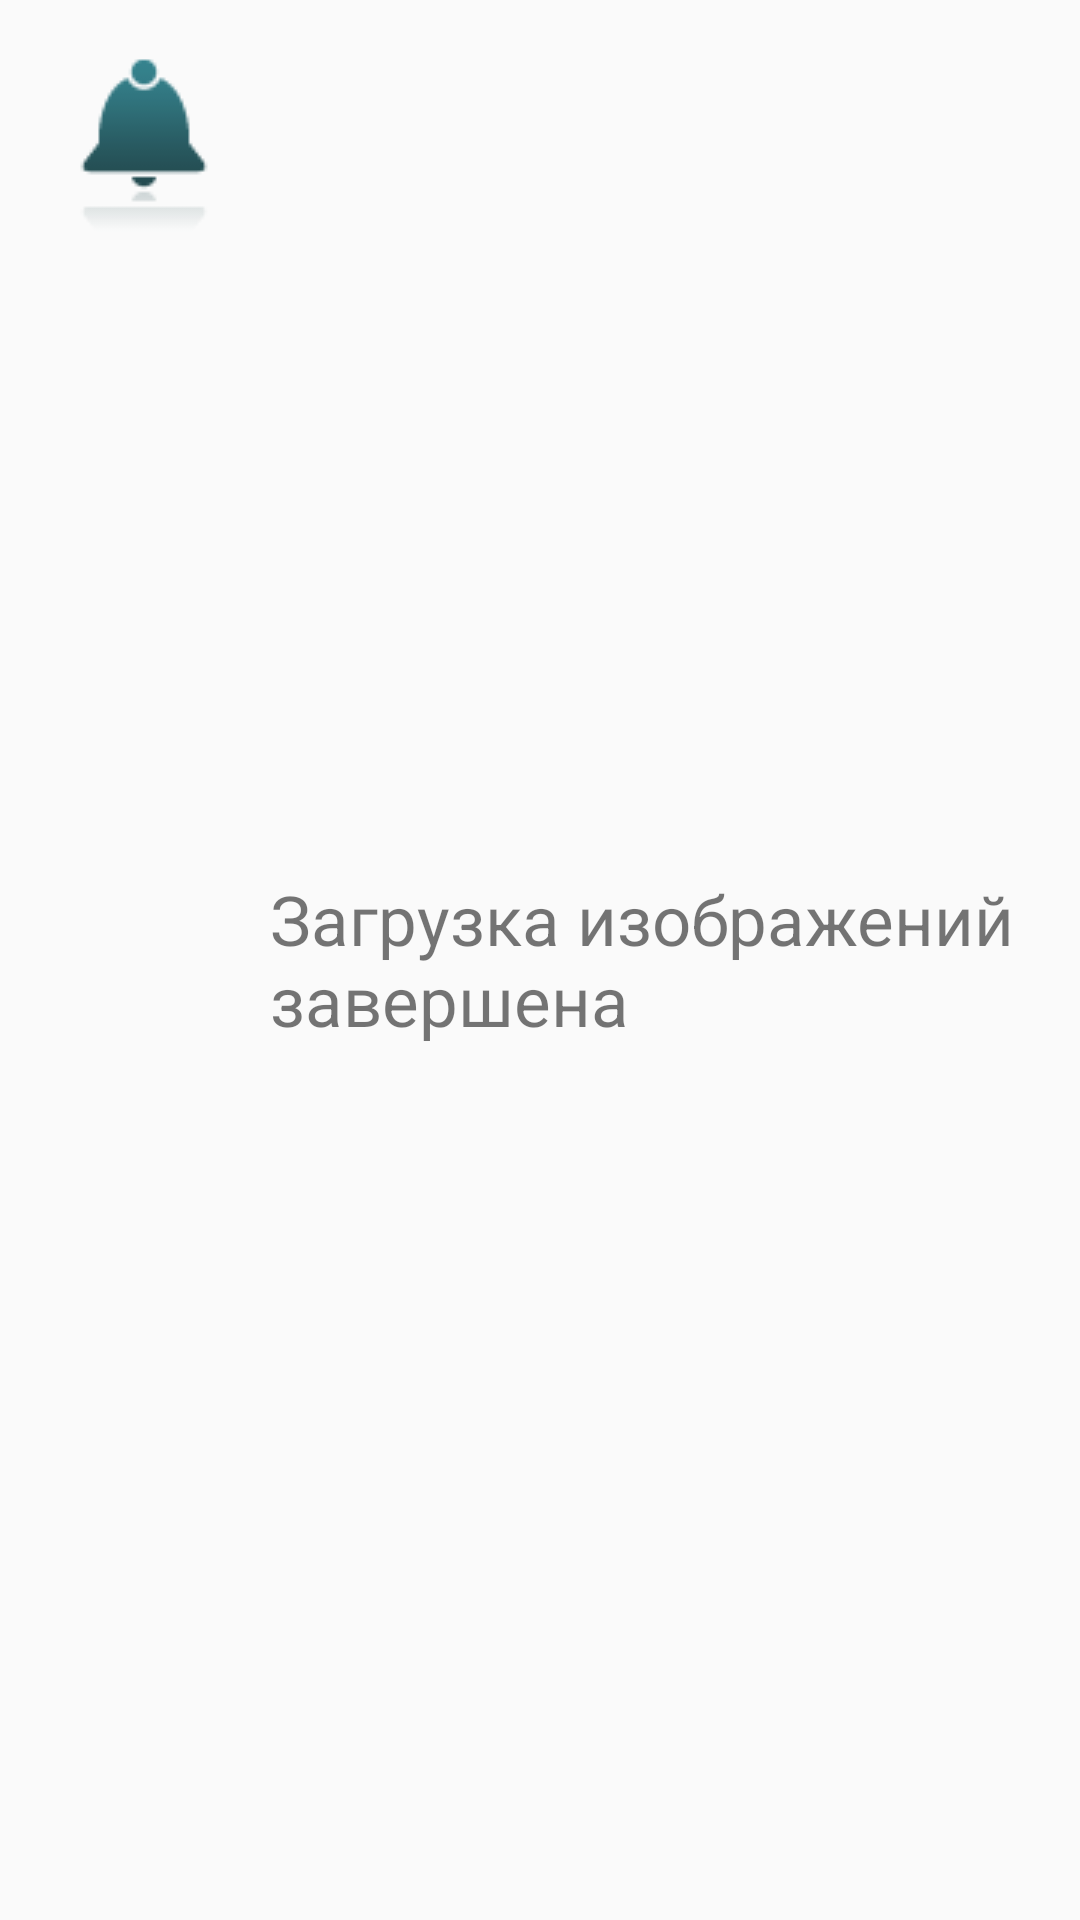

Icons on this 1080 × 1920 Android screen, each with its box as (x1, y1, x2, y2):
notification: (81, 59, 207, 210)
